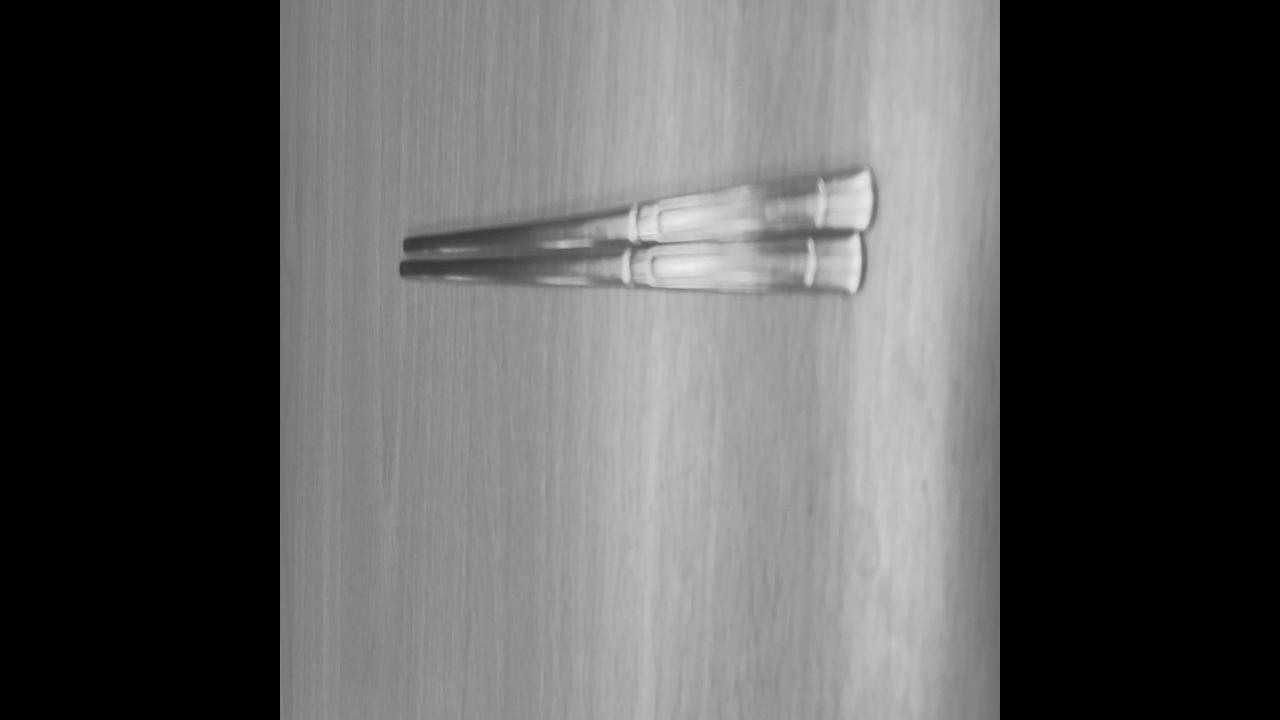chopstick: (400, 164, 872, 291)
